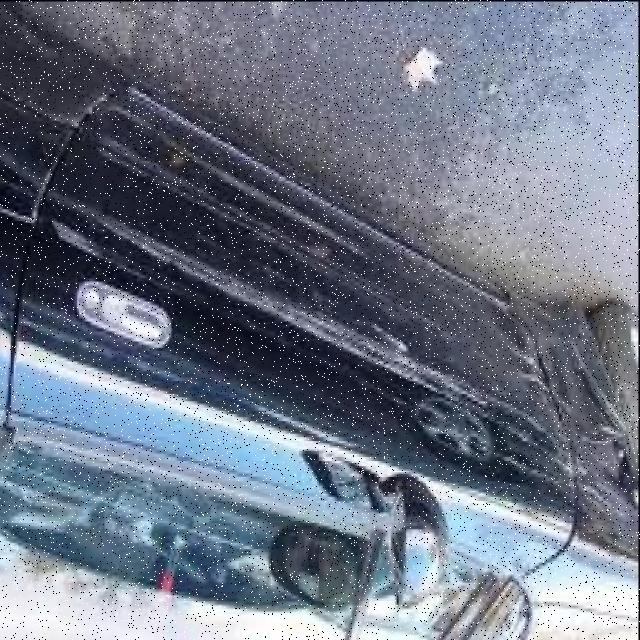damage: (3, 167, 639, 513)
